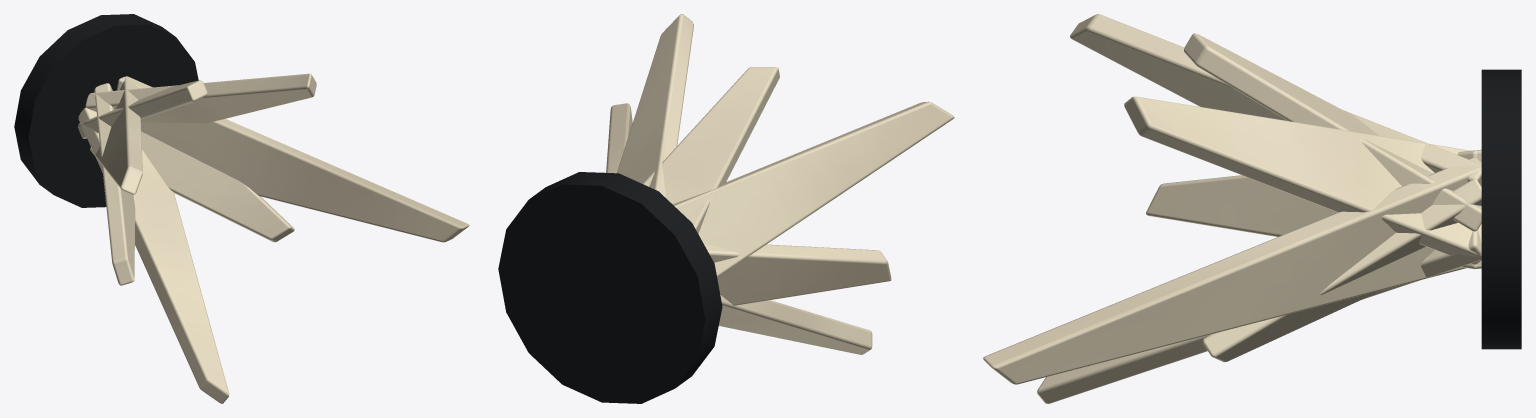
The model's file is HullCrack.glb.
3 views of the same model, side by side, from view 1: azimuth 30°, elevation 25°; view 2: azimuth 150°, elevation 25°; view 3: azimuth 270°, elevation 25° (orthographic). The views are drawn at different scales.
Parts seen in each view (by area): view 1: HullCrack_Body; view 2: HullCrack_Body; view 3: HullCrack_Body.
Part boxes in pixels (<box>): HullCrack_Body: <box>14,14,469,403</box>; HullCrack_Body: <box>498,14,954,403</box>; HullCrack_Body: <box>983,14,1521,403</box>.
Size of the model in its own units: 0.1283 by 0.1074 by 0.1346.
2 materials, 1 textured.
